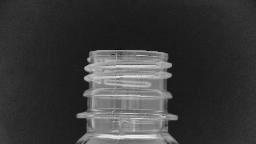No Cap: (69, 44, 185, 124)
